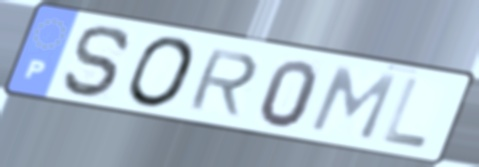0: (253, 57, 322, 131)
L: (378, 74, 432, 151)
M: (305, 63, 401, 143)
O: (125, 35, 200, 111)
R: (183, 46, 262, 119)
S: (59, 23, 136, 101)
